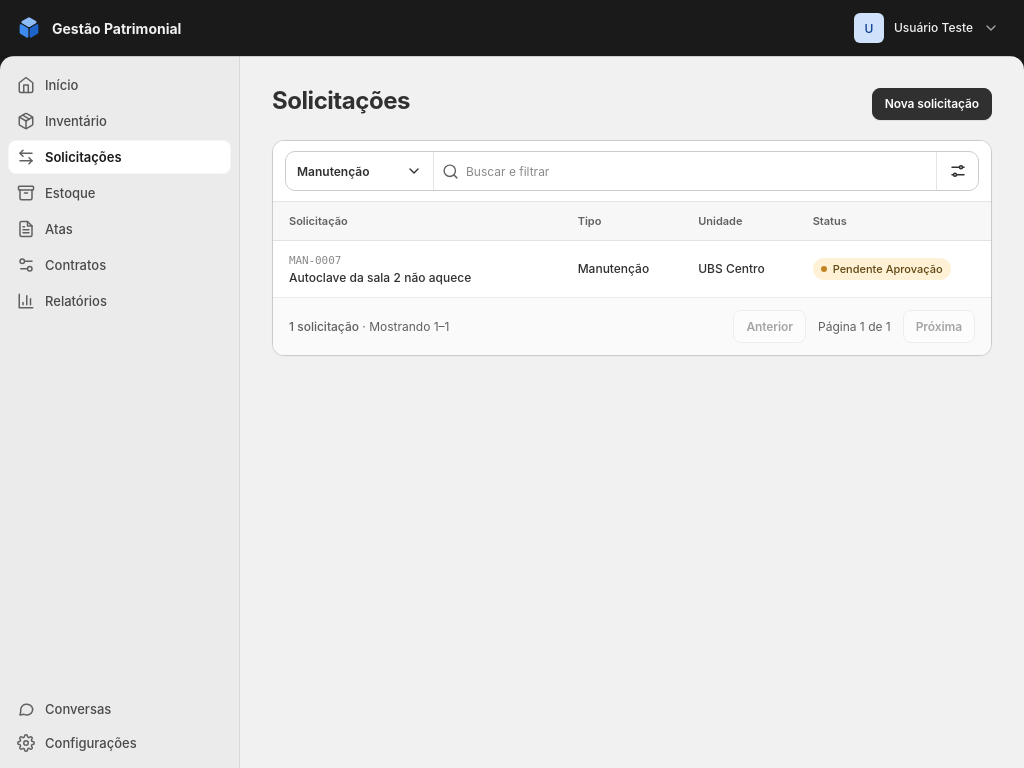
Test: Manutenções › a lista e o detalhe mostram o número e o título do pedido, sem repetir o nome do equipamento
The width and height of the screenshot is (1024, 768).
Expected: the text "MAN-0007" is shown, top-left (289, 254), bottom-right (341, 266)
Expected: the text "Autoclave Vertical" is not shown
Click the link with aria-label "Ver manutenção de Autoclave da sala 2 não aquece" at (380, 278), box top-left (289, 270), bottom-right (471, 285)
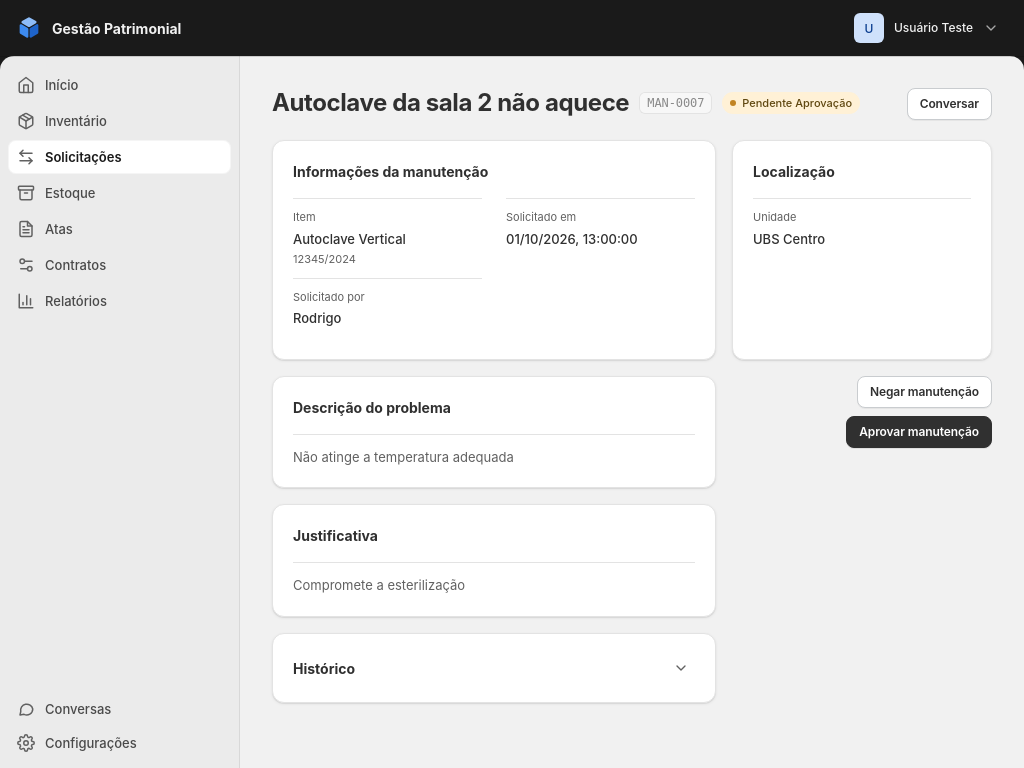
Expected: the heading "Autoclave da sala 2 não aquece" is shown, top-left (272, 88), bottom-right (629, 118)
Result: the text named "Número MAN-0007" is shown at top-left (639, 92), bottom-right (712, 114)
